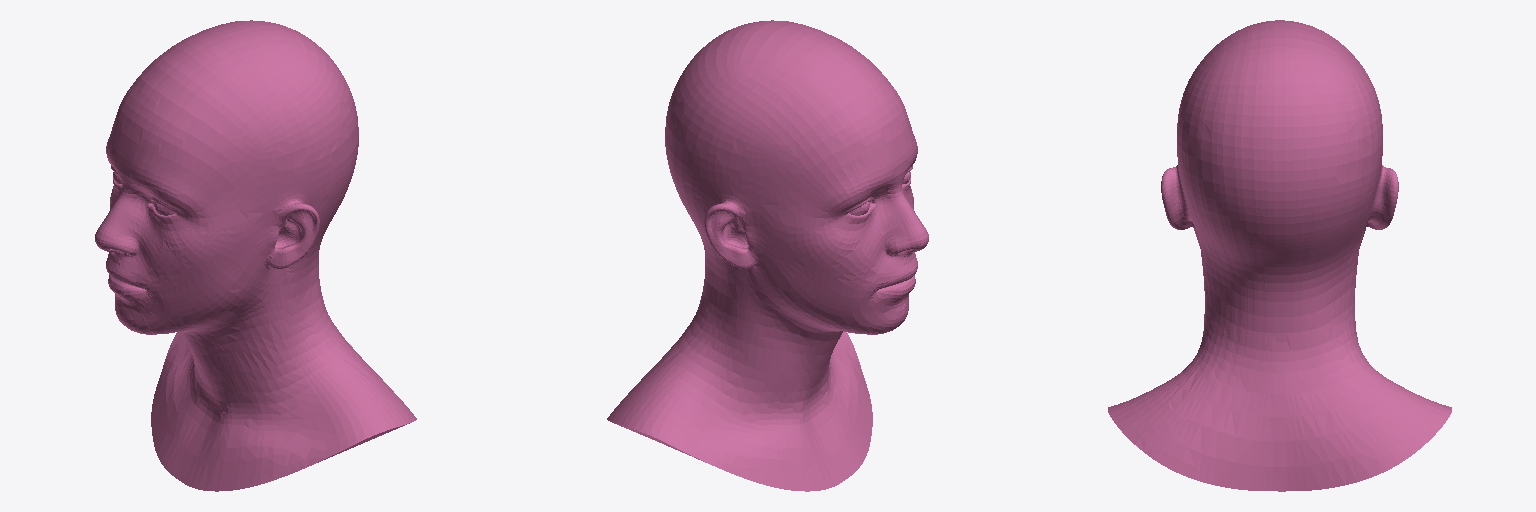
URDF robot description (lefteye):
<?xml version="1.0"?>
<robot name="lefteye">
  <link name="base"/>
  <link name="base1"/>
  <link name="base2"/>
  <link name="base3"/>
  <link name="base4"/>
  <link name="base5"/>
  <joint name="x_joint" type="prismatic">
    <origin xyz="0 0 0" rpy="0 0 0"/>
    <parent link="base"/>
    <child link="base1"/>
    <axis xyz="1 0 0"/>
    <limit effort="1" lower="-2" upper="2.0" velocity="1"/>
    <dynamics damping="10" friction="10"/>
  </joint>

  <joint name="y_joint" type="prismatic">
    <origin xyz="0 0 0" rpy="0 0 0"/>
    <parent link="base1"/>
    <child link="base2"/>
    <axis xyz="0 1 0"/>
    <limit effort="1" lower="-2.0" upper="2.0" velocity="1"/>
    <dynamics damping="10" friction="10"/>
  </joint>

  <joint name="z_joint" type="prismatic">
    <origin xyz="0 0 0" rpy="0 0 0"/>
    <parent link="base2"/>
    <child link="base3"/>
    <axis xyz="0 0 1"/>
    <limit effort="12" lower="-2.8973" upper="2.8973" velocity="2.6100"/>
    <dynamics damping="10" friction="10"/>
  </joint>

  <joint name="rx_joint" type="revolute">
    <origin xyz="0 0 0" rpy="0 0 0"/>
    <parent link="base3"/>
    <child link="base4"/>
    <axis xyz="1 0 0"/>
    <limit effort="12" lower="-2.8973" upper="2.8973" velocity="2.6100"/>
    <dynamics damping="10" friction="10"/>
  </joint>
  <joint name="ry_joint" type="revolute">
    <origin xyz="0 0 0" rpy="0 0 0"/>
    <parent link="base4"/>
    <child link="base5"/>
    <axis xyz="0 1 0"/>
    <limit effort="12" lower="-2.8973" upper="2.8973" velocity="2.6100"/>
    <dynamics damping="10" friction="10"/>
  </joint>
  <joint name="rz_joint" type="revolute">
    <origin xyz="0 0 0" rpy="0 0 0"/>
    <parent link="base5"/>
    <child link="lefteye"/>
    <axis xyz="0 0 1"/>
    <limit effort="12" lower="-2.8973" upper="2.8973" velocity="2.6100"/>
    <dynamics damping="10" friction="10"/>
  </joint>

  <link name="lefteye">
    <visual>
      <origin xyz="0.05 0.0 0.0" rpy= "0.0 0.0 3.141592653589793"/>
      <geometry>
        <mesh filename="lefteye.obj" scale="1 1 1"/>
      </geometry>
    </visual>
    <collision>
      <origin xyz="0.05 0.0 0.0" rpy= "0.0 0.0 3.141592653589793"/>
      <geometry>
        <mesh filename="lefteye.obj" scale="1 1 1"/>
      </geometry>
    </collision>
    <inertial>
      <mass value="0.0"/>
      <inertia ixx="0.0001" ixy="0.0" ixz="0.0" iyy="0.0001" iyz="0.0" izz="0.0001"/>
    </inertial>
  </link>
</robot>

--- What the picture shows (computed from the rendered views, not written in the file) ---
The picture shows the robot from 3 angles, left to right: view 1: azimuth 30°, elevation 25°; view 2: azimuth 150°, elevation 25°; view 3: azimuth 270°, elevation 25°; orthographic projection.
Model lefteye with 7 links and 6 joints (3 revolute, 3 prismatic), rooted at base, posed every joint at zero.
Visible links, largest first — view 1: lefteye; view 2: lefteye; view 3: lefteye.
Boxes of the visible links, x1=… form: lefteye: x1=95, y1=20, x2=416, y2=491; lefteye: x1=607, y1=20, x2=928, y2=491; lefteye: x1=1108, y1=20, x2=1451, y2=491.
Bounding box of the posed robot: 0.2346 × 0.259 × 0.3582 m (x, y, z).
1 mesh visuals loaded from 1 distinct referenced files (1 OBJ).
